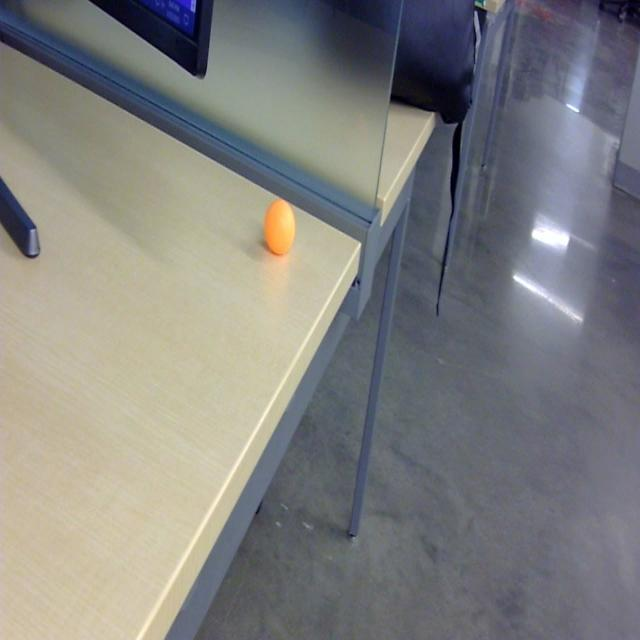ball: (264, 197, 298, 256)
